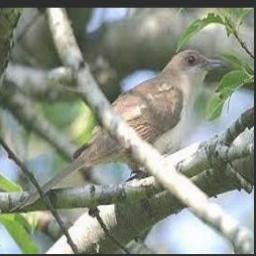Cuckoo: (10, 49, 225, 214)
